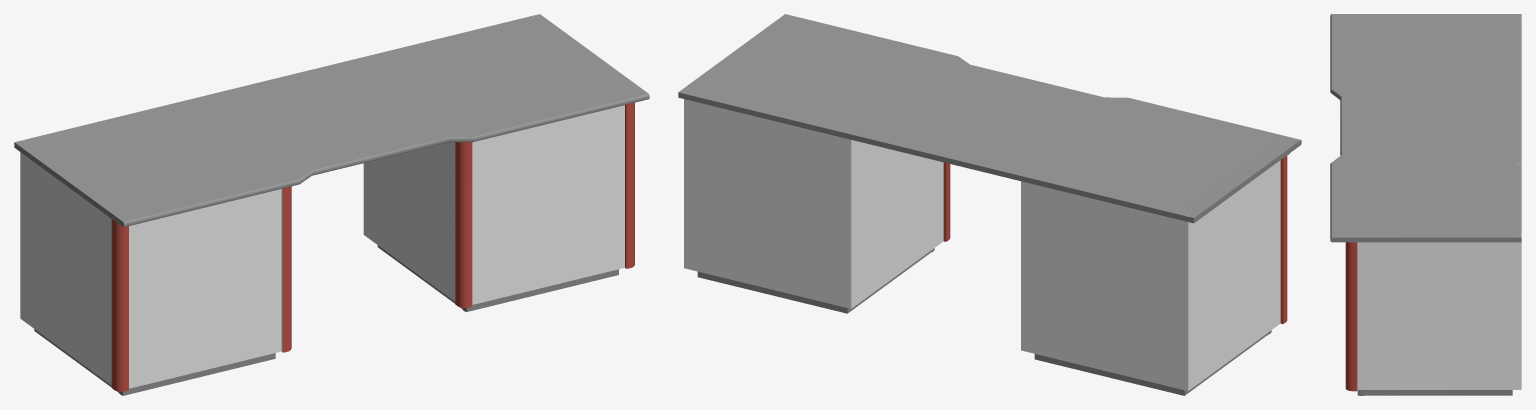
The model's file is desktable.fbx.
3 views of the same model, side by side, from view 1: azimuth 30°, elevation 25°; view 2: azimuth 150°, elevation 25°; view 3: azimuth 270°, elevation 25° (orthographic). The views are drawn at different scales.
Parts seen in each view (by area): view 1: Desk; view 2: Desk; view 3: Desk.
Part boxes in pixels (<box>): Desk: <box>14,14,649,395</box>; Desk: <box>678,14,1301,395</box>; Desk: <box>1330,14,1521,395</box>.
Bounding box in the file's own units: 1.55 × 1.47 × 4.3.
